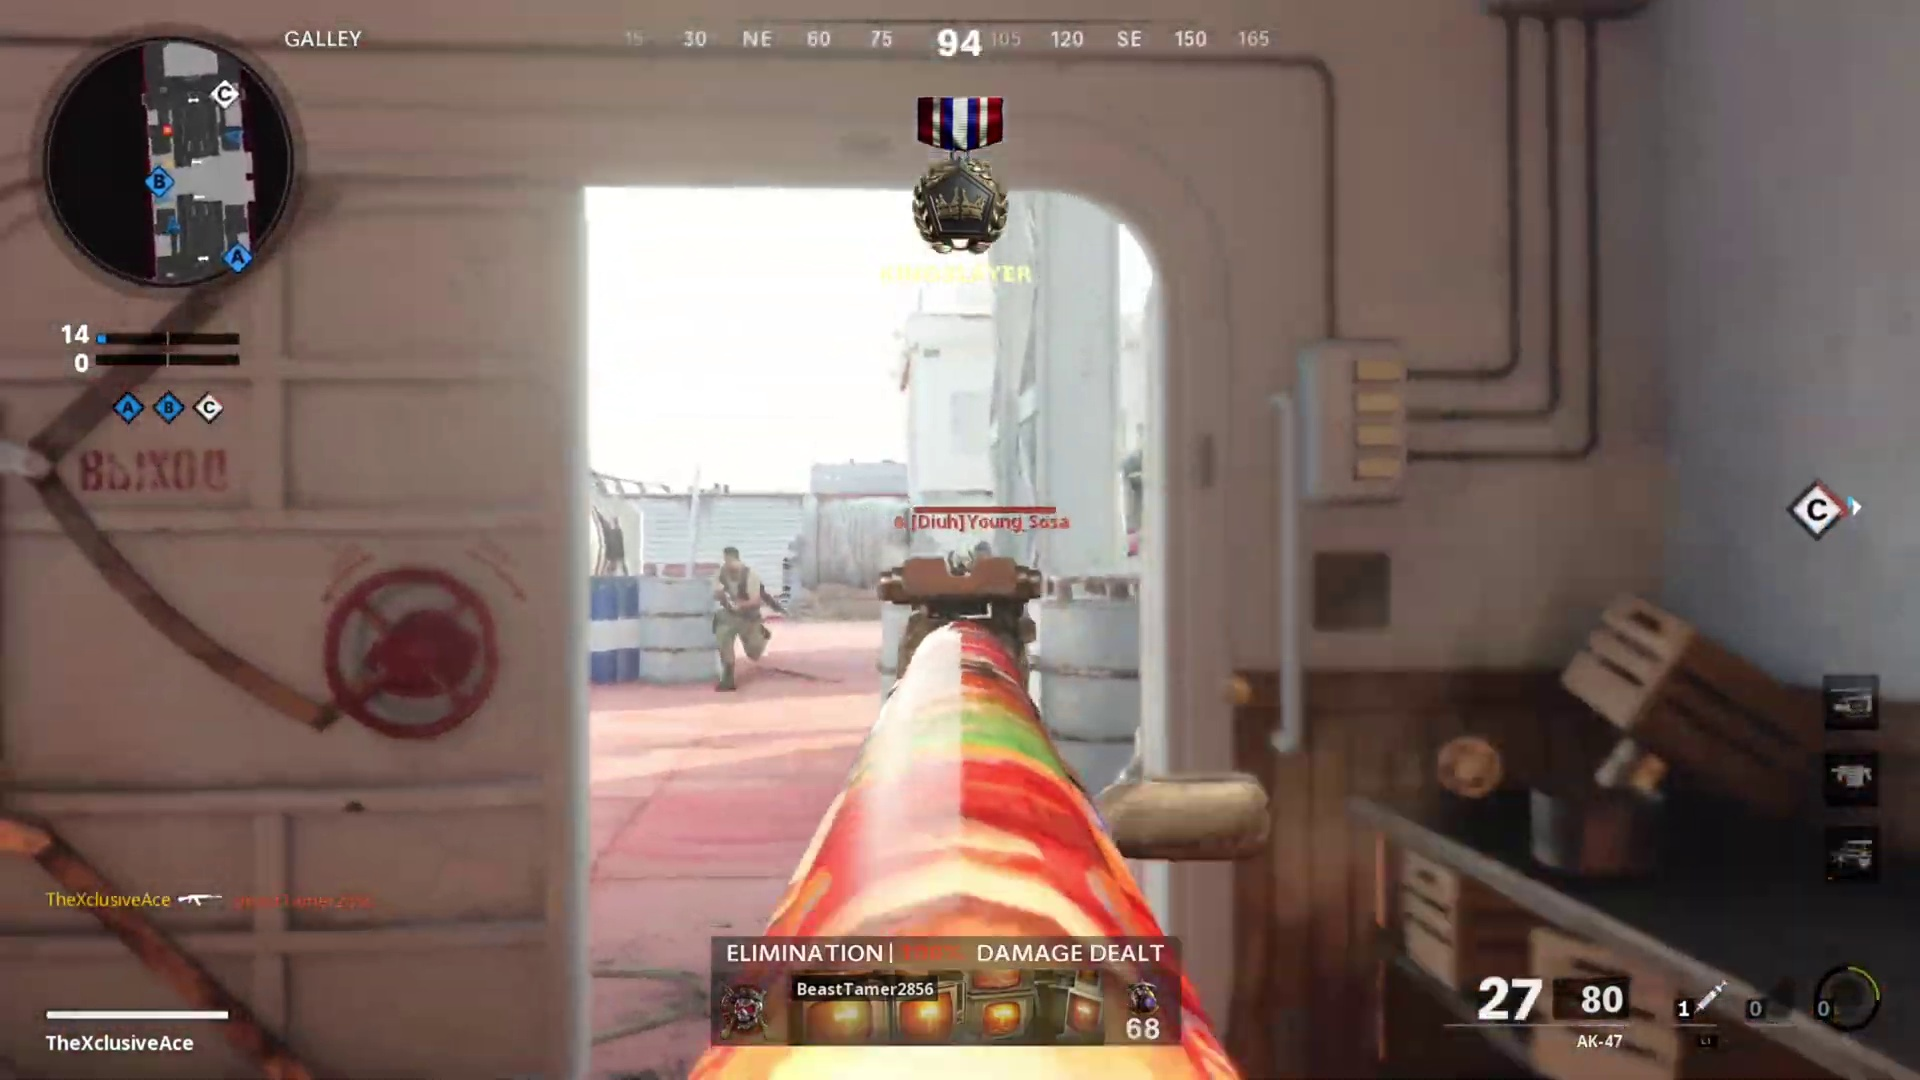head: (713, 543, 741, 576)
person: (707, 543, 776, 683)
